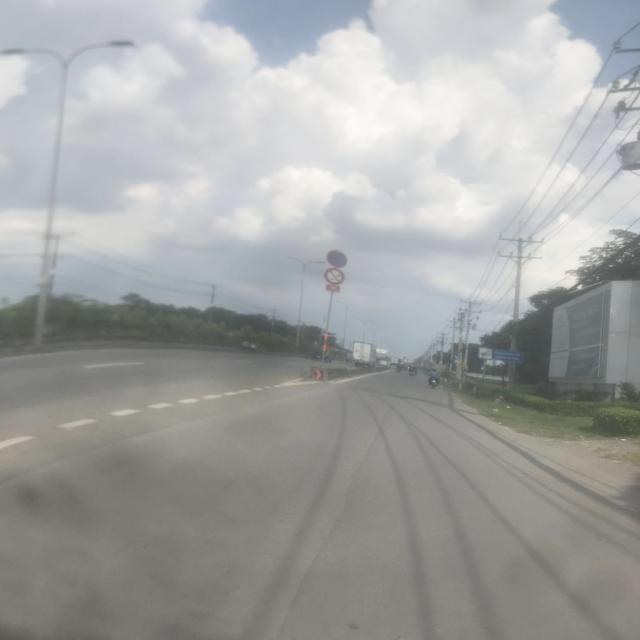cam_dung_xe_va_do_xe: (327, 250, 347, 268)
cam_xe_2_banh_va_xe_3_banh_co_dong_co: (324, 268, 345, 285)
